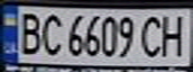0: (100, 12, 121, 57)
6: (63, 11, 87, 57), (81, 11, 103, 57)
9: (115, 12, 139, 60)
B: (12, 9, 45, 55)
C: (136, 12, 166, 59), (36, 10, 66, 56)
H: (157, 11, 190, 57)
